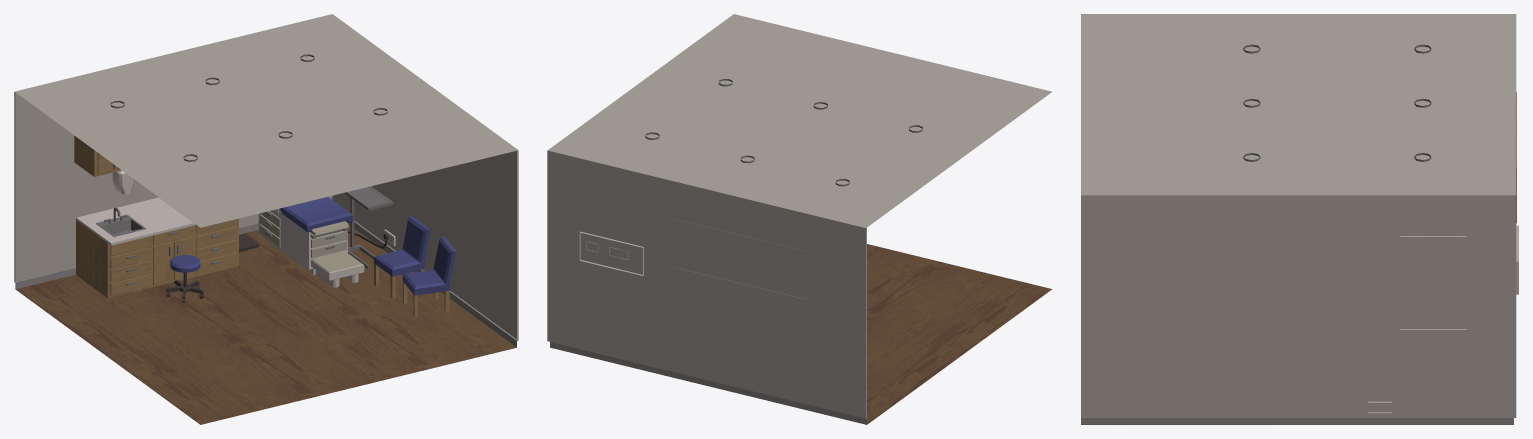
The picture shows the model from 3 angles, left to right: view 1: azimuth 30°, elevation 25°; view 2: azimuth 150°, elevation 25°; view 3: azimuth 270°, elevation 25°; orthographic projection. The views are drawn at different scales.
Visible parts, largest first — view 1: DoctorsOffice, Counter, Bed, Chair, Chair2, Table, Cupboards, Stool; view 2: DoctorsOffice; view 3: DoctorsOffice, Lights.
Boxes of the visible parts, box(x1,y1,x2,y2) form: DoctorsOffice: box(14, 14, 518, 424); Counter: box(76, 197, 238, 298); Bed: box(258, 197, 364, 287); Chair: box(374, 216, 430, 298); Chair2: box(402, 236, 456, 317); Table: box(344, 186, 392, 268); Cupboards: box(74, 136, 121, 176); Stool: box(165, 255, 204, 302); DoctorsOffice: box(547, 14, 1052, 424); DoctorsOffice: box(1081, 14, 1518, 424); Lights: box(1243, 44, 1431, 161).
Bounding box in the file's own units: 2.02 × 1.21 × 2.05.
1 material, 1 textured.
